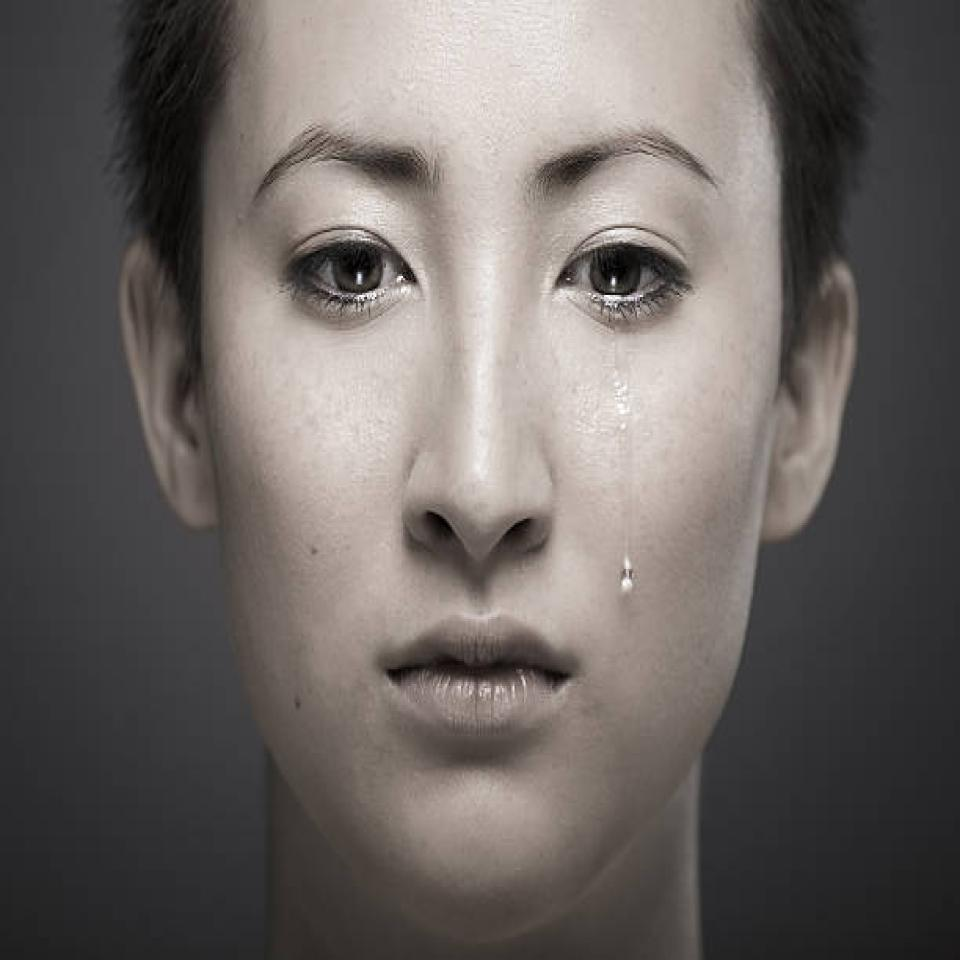Sadness: (119, 6, 858, 930)
